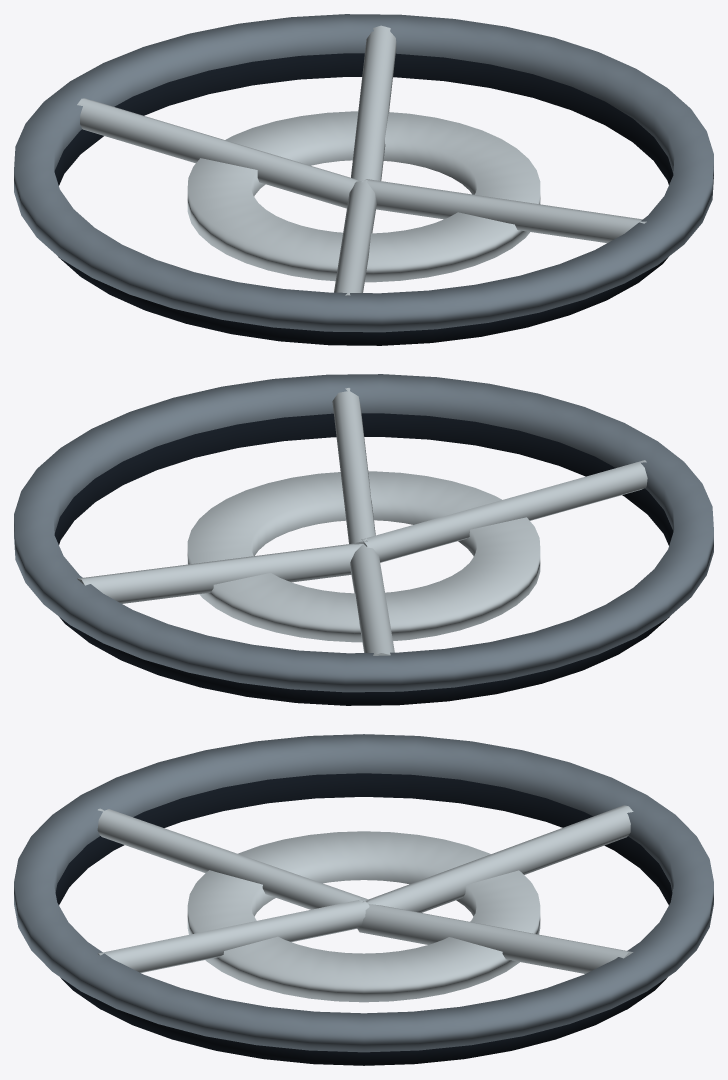
Rendered from atlas_v_centaur_engine_frame.glb.
3 renders of one model, top to bottom at view 1: azimuth 30°, elevation 25°; view 2: azimuth 150°, elevation 25°; view 3: azimuth 270°, elevation 25°, orthographic.
Parts seen in each view (by area): view 1: atlas_v_centaur_engine_frame.mesh_Machined_steel, atlas_v_centaur_engine_frame.mesh_Satin_aluminum, atlas_v_centaur_engine_frame.mesh_Shadowed_interior; view 2: atlas_v_centaur_engine_frame.mesh_Machined_steel, atlas_v_centaur_engine_frame.mesh_Satin_aluminum, atlas_v_centaur_engine_frame.mesh_Shadowed_interior; view 3: atlas_v_centaur_engine_frame.mesh_Machined_steel, atlas_v_centaur_engine_frame.mesh_Satin_aluminum, atlas_v_centaur_engine_frame.mesh_Shadowed_interior.
Part boxes in pixels (x1,y1,x2,y2): atlas_v_centaur_engine_frame.mesh_Machined_steel: (14, 14, 713, 332); atlas_v_centaur_engine_frame.mesh_Satin_aluminum: (77, 25, 646, 295); atlas_v_centaur_engine_frame.mesh_Shadowed_interior: (54, 53, 673, 345); atlas_v_centaur_engine_frame.mesh_Machined_steel: (14, 374, 713, 692); atlas_v_centaur_engine_frame.mesh_Satin_aluminum: (77, 388, 647, 655); atlas_v_centaur_engine_frame.mesh_Shadowed_interior: (54, 413, 673, 705); atlas_v_centaur_engine_frame.mesh_Machined_steel: (14, 734, 713, 1052); atlas_v_centaur_engine_frame.mesh_Satin_aluminum: (97, 805, 633, 1002); atlas_v_centaur_engine_frame.mesh_Shadowed_interior: (55, 773, 672, 1065).
Bounding box in the file's own units: 3.03 × 0.2502 × 3.03.
